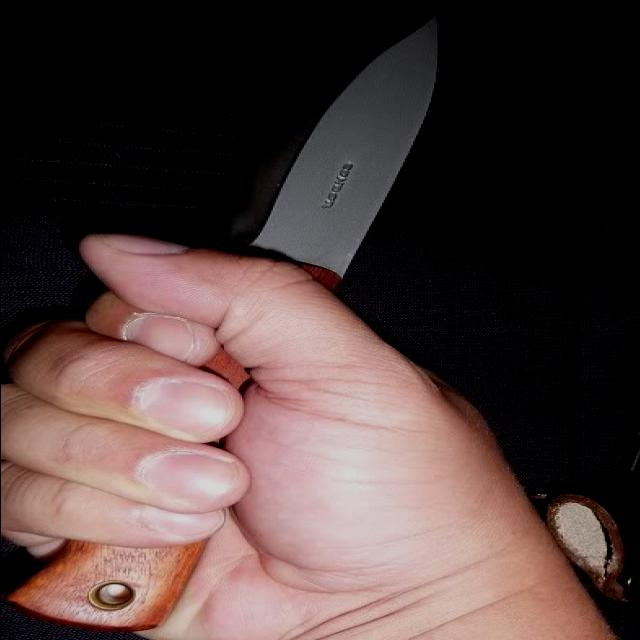knife: (87, 8, 460, 471)
